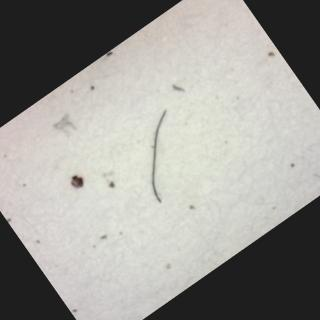Microplastic: (99, 90, 226, 224)
